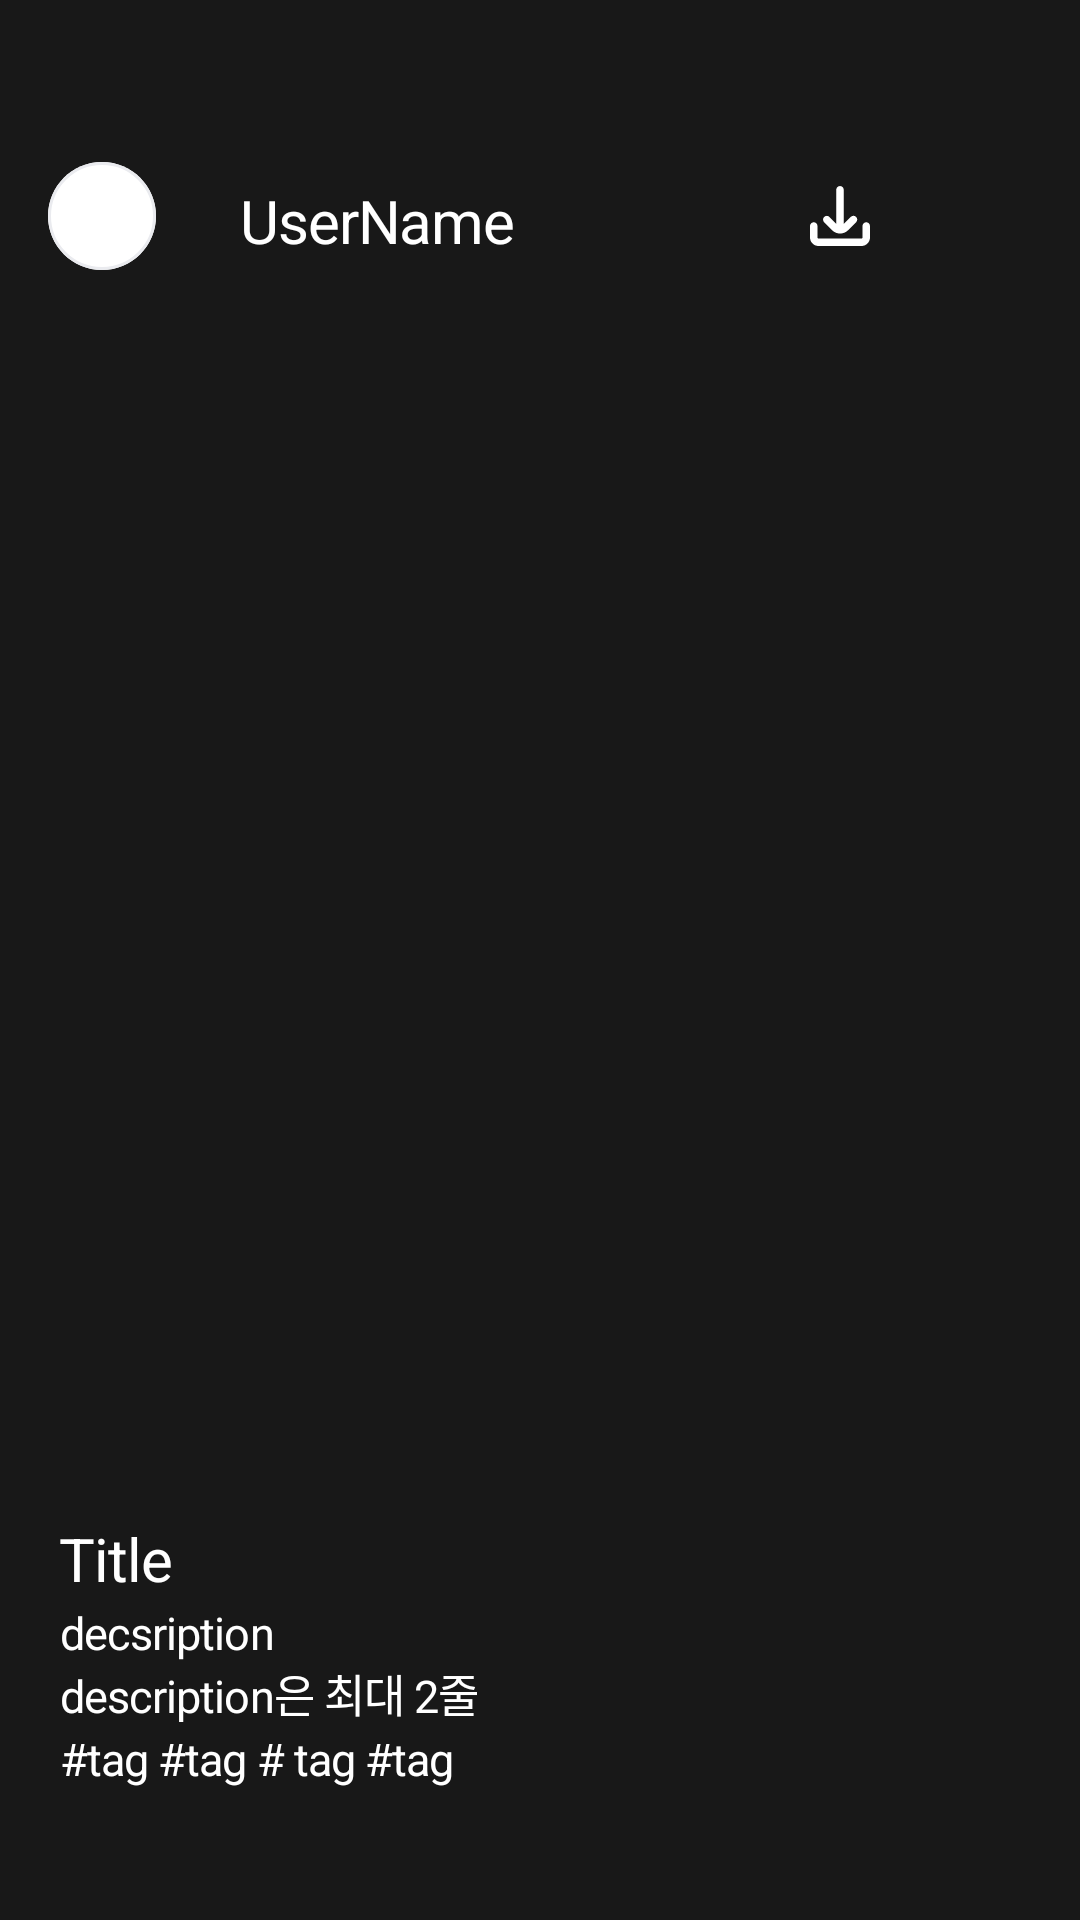

Where icons sit on this 1080px x 1920px app screen, as (x1, y1, x2, y2):
download: (810, 186, 870, 246)
